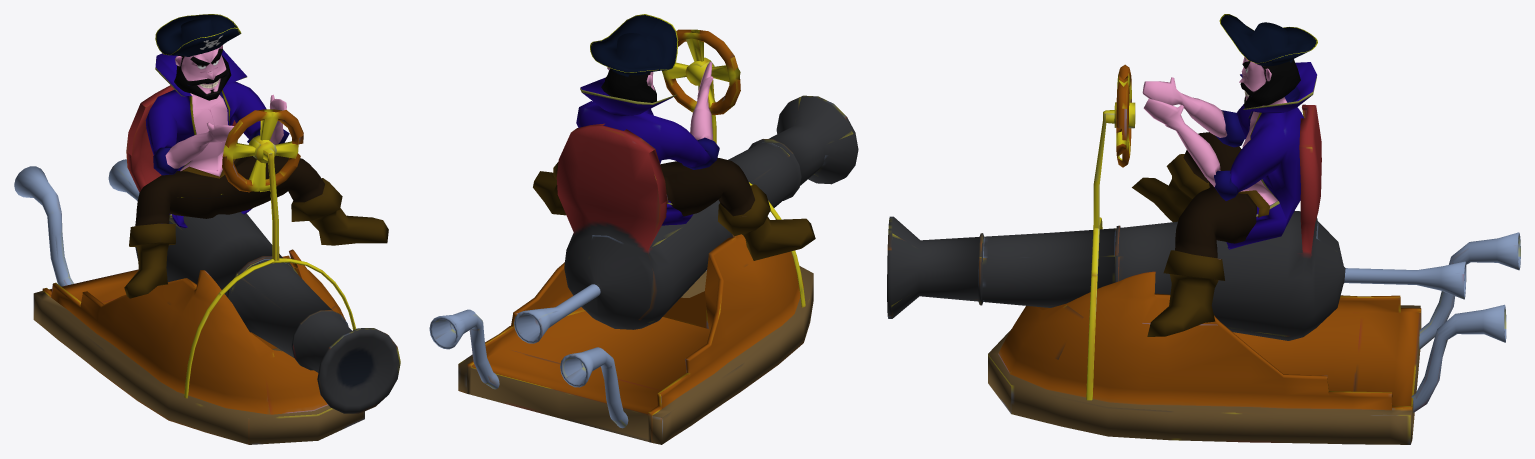
Rendered from PirataHabilidad_000199.obj.
3 renders of one model, left to right at view 1: azimuth 30°, elevation 25°; view 2: azimuth 150°, elevation 25°; view 3: azimuth 270°, elevation 25°, orthographic. The views are drawn at different scales.
Parts seen in each view (by area): view 1: carro_pirata_carro_pirata.001, Pirata_PirataH; view 2: carro_pirata_carro_pirata.001, Pirata_PirataH; view 3: carro_pirata_carro_pirata.001, Pirata_PirataH.
Boxes of the visible parts, box(x1,y1,x2,y2) form: carro_pirata_carro_pirata.001: box(14, 85, 400, 444); Pirata_PirataH: box(124, 14, 388, 298); carro_pirata_carro_pirata.001: box(429, 29, 858, 444); Pirata_PirataH: box(533, 14, 815, 260); carro_pirata_carro_pirata.001: box(887, 64, 1520, 444); Pirata_PirataH: box(1132, 14, 1317, 336).
Size of the model in its own units: 6.53 by 7.71 by 12.1.
